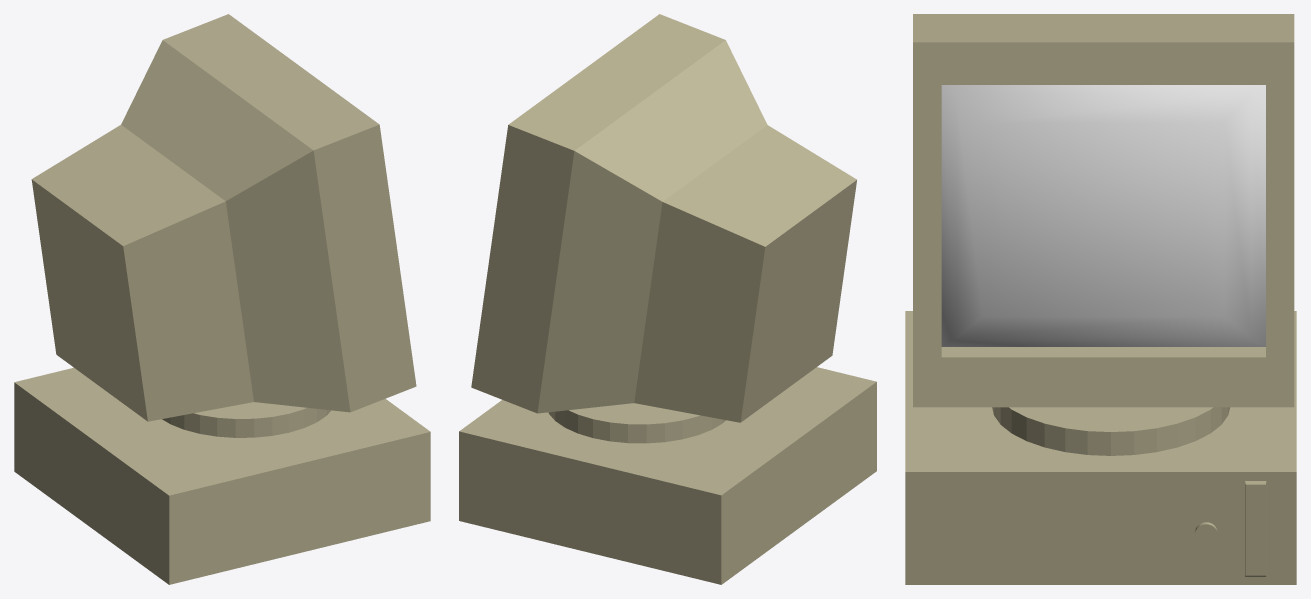
File: Monitor.fbx
3 views of the same model, side by side, from view 1: azimuth 30°, elevation 25°; view 2: azimuth 150°, elevation 25°; view 3: azimuth 270°, elevation 25° (orthographic). The views are drawn at different scales.
Visible parts, largest first — view 1: Monitor, Desktop; view 2: Monitor, Desktop; view 3: Monitor, Desktop.
Boxes of the visible parts, x1,y1,x2,y2 form: Monitor: (31,14,416,437); Desktop: (14,367,430,584); Monitor: (471,14,856,443); Desktop: (459,367,876,584); Monitor: (913,14,1294,455); Desktop: (905,311,1296,584).
Bounding box in the file's own units: 132 × 184 × 127.
